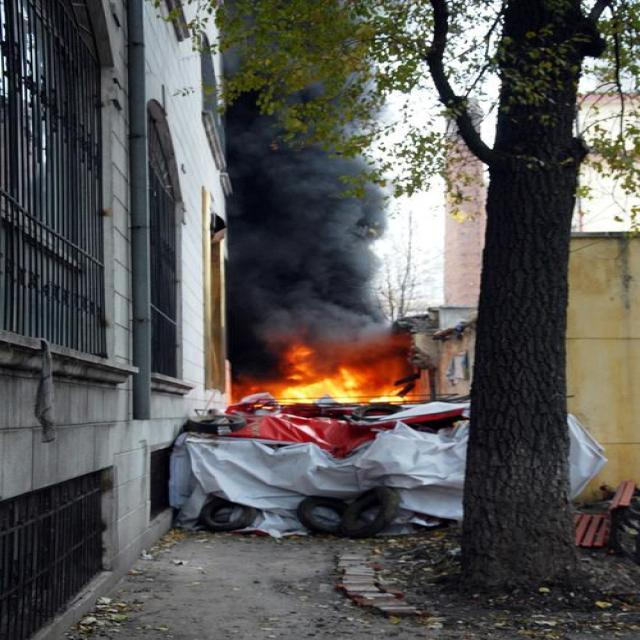Fire: (228, 338, 410, 402)
Smoke: (229, 95, 387, 342)
